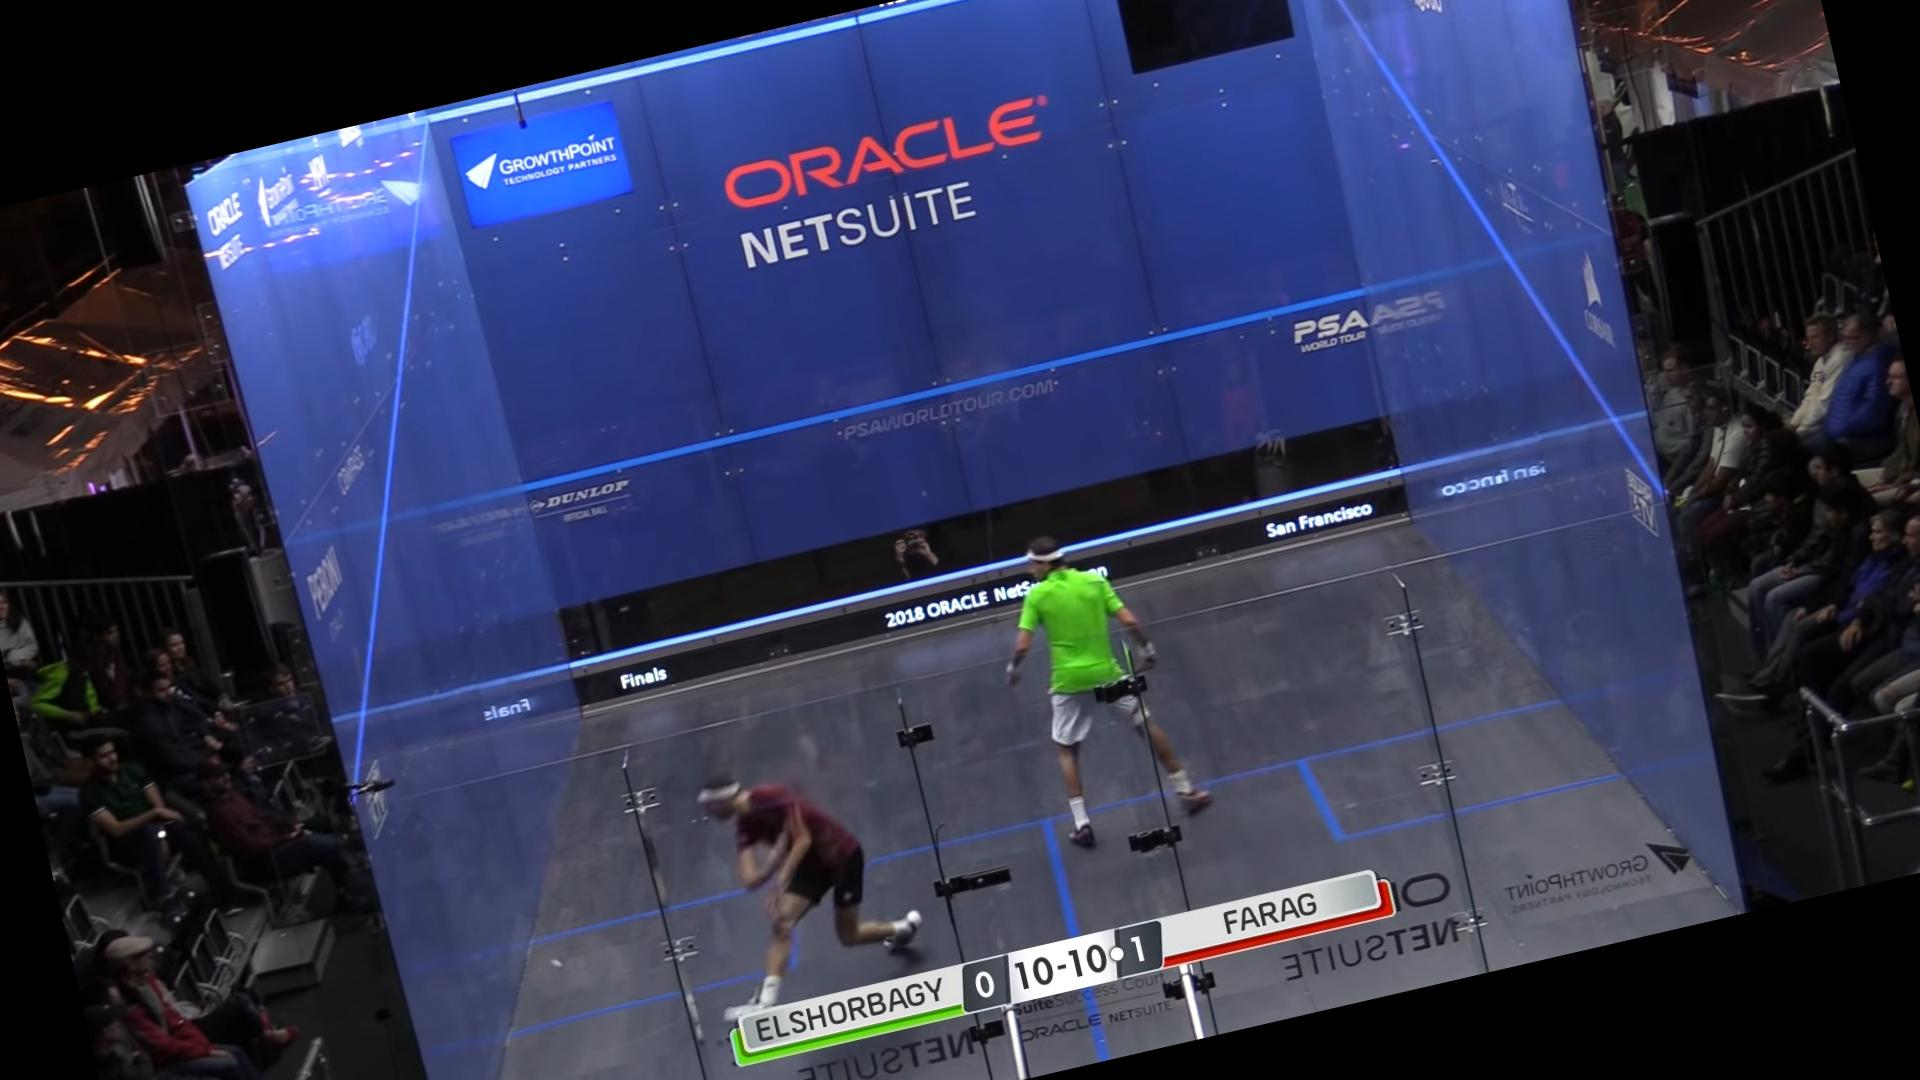Squash-Ball: (545, 949, 571, 977)
